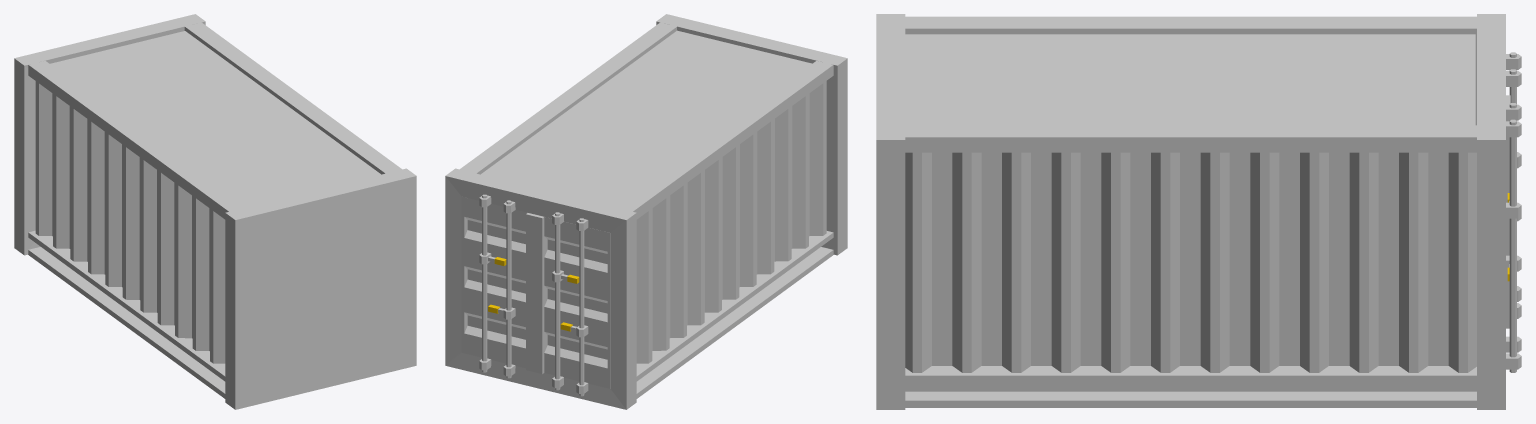
The model's file is ShippingContaneGrane.fbx.
3 views of the same model, side by side, from view 1: azimuth 30°, elevation 25°; view 2: azimuth 150°, elevation 25°; view 3: azimuth 270°, elevation 25° (orthographic). The views are drawn at different scales.
Visible parts, largest first — view 1: Cube.039; view 2: Cube.039; view 3: Cube.039.
Boxes of the visible parts, x1,y1,x2,y2 form: Cube.039: (14,14,416,409); Cube.039: (445,14,847,409); Cube.039: (876,14,1521,409).
Bounding box in the file's own units: 471 × 472 × 1019.
